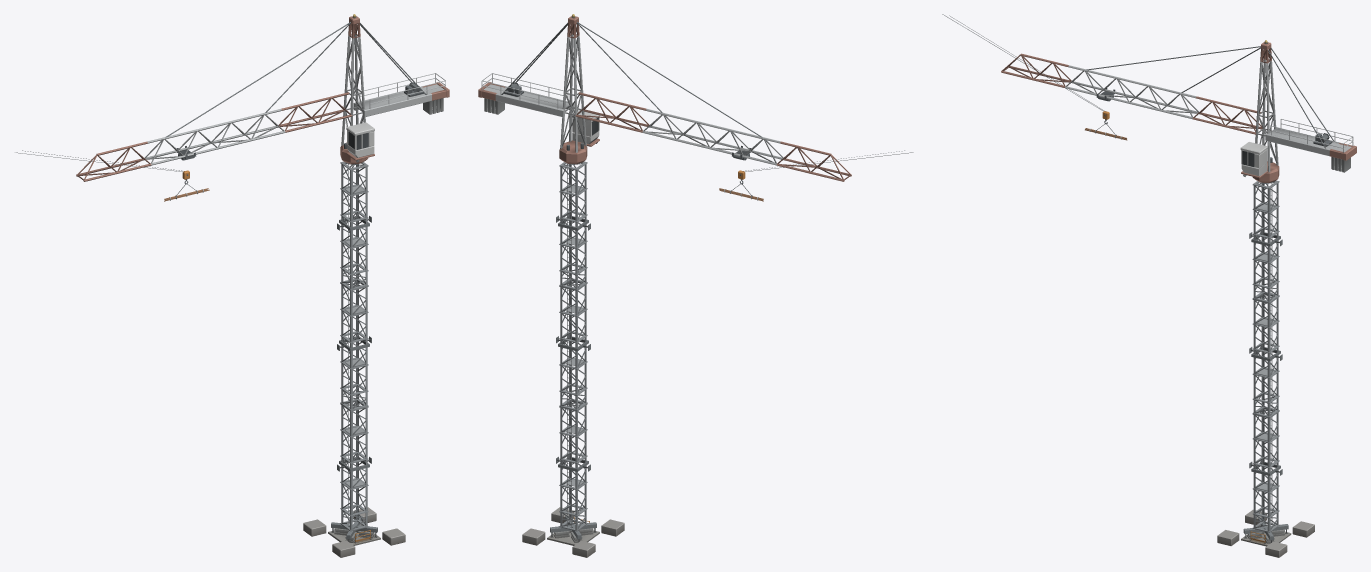
File: crane.glb
The picture shows the model from 3 angles, left to right: view 1: azimuth 30°, elevation 25°; view 2: azimuth 150°, elevation 25°; view 3: azimuth 330°, elevation 25°; orthographic projection. The views are drawn at different scales.
Visible parts, largest first — view 1: crane; view 2: crane; view 3: crane.
Boxes of the visible parts, x1,y1,x2,y2 form: crane: [15, 14, 449, 557]; crane: [478, 14, 913, 557]; crane: [942, 14, 1356, 557].
Bounding box in the file's own units: 51.35 × 59.6 × 7.8.
